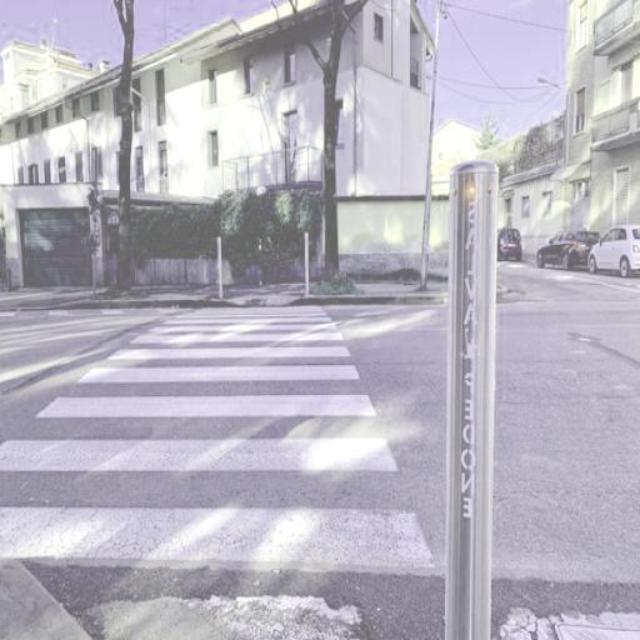sidewalk: (0, 290, 442, 573)
